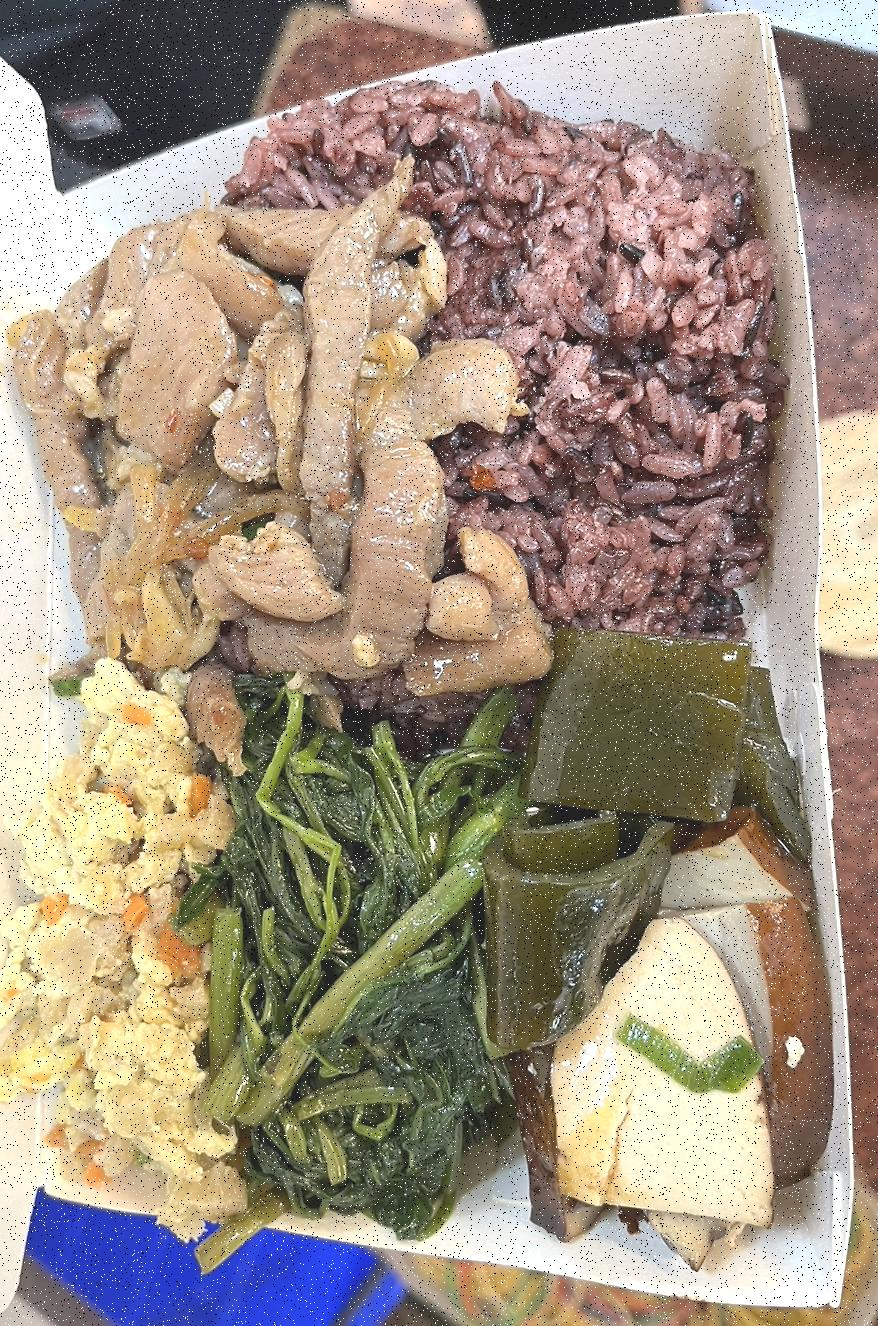big grilled chicken leg: (0, 0, 878, 1326)
braised fish: (224, 86, 764, 637)
braised fish fillet: (494, 651, 820, 1261), (196, 674, 508, 1224), (0, 668, 227, 1218)
braised pork: (18, 168, 542, 686)
